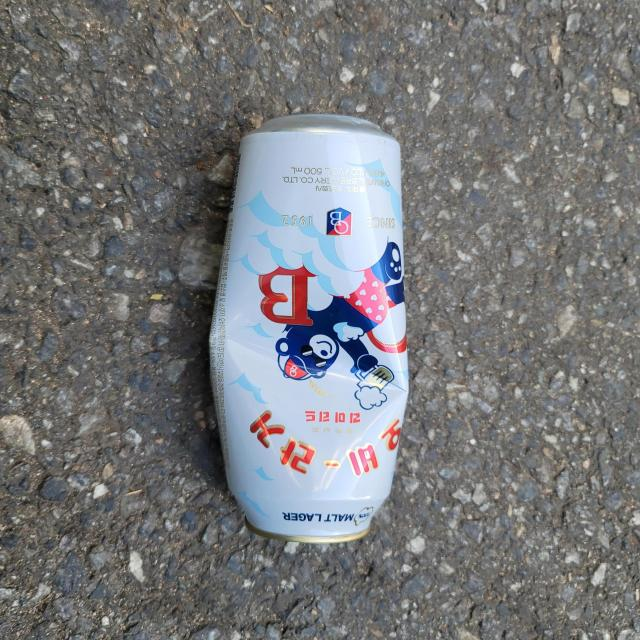can: (210, 114, 409, 544)
